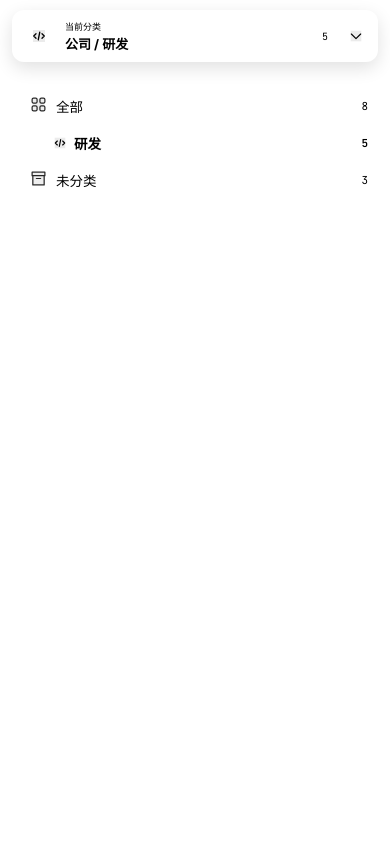
Scenario: CategoryNav mobile drawer › closes with Escape without changing the category
Click the button "当前分类 公司 / 研发 5".
click(83, 26)  # box [12,10,378,62]
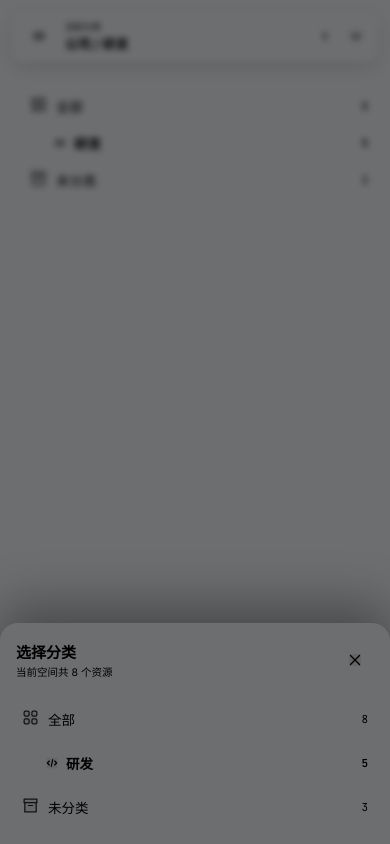
Press Escape
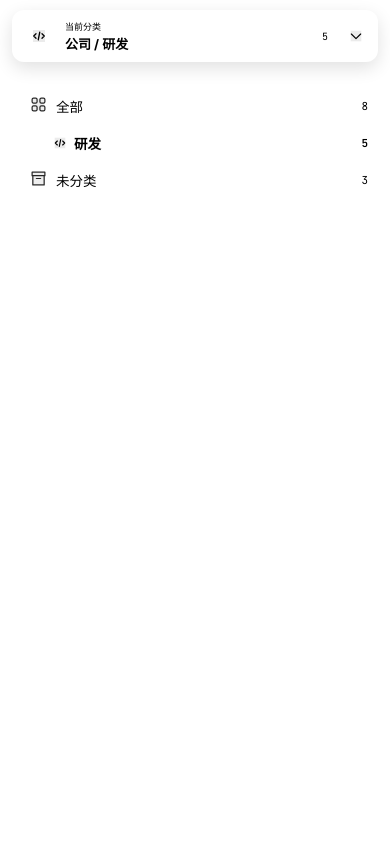
Now the text "选择分类" is gone
